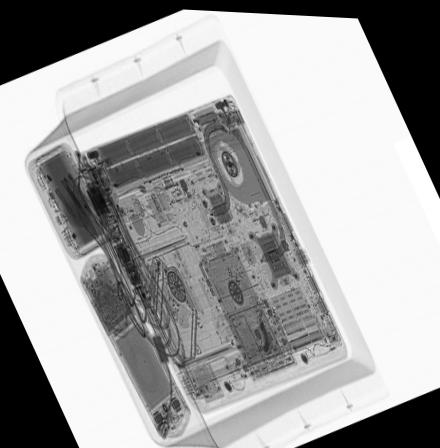Powerbank: (25, 139, 115, 259)
